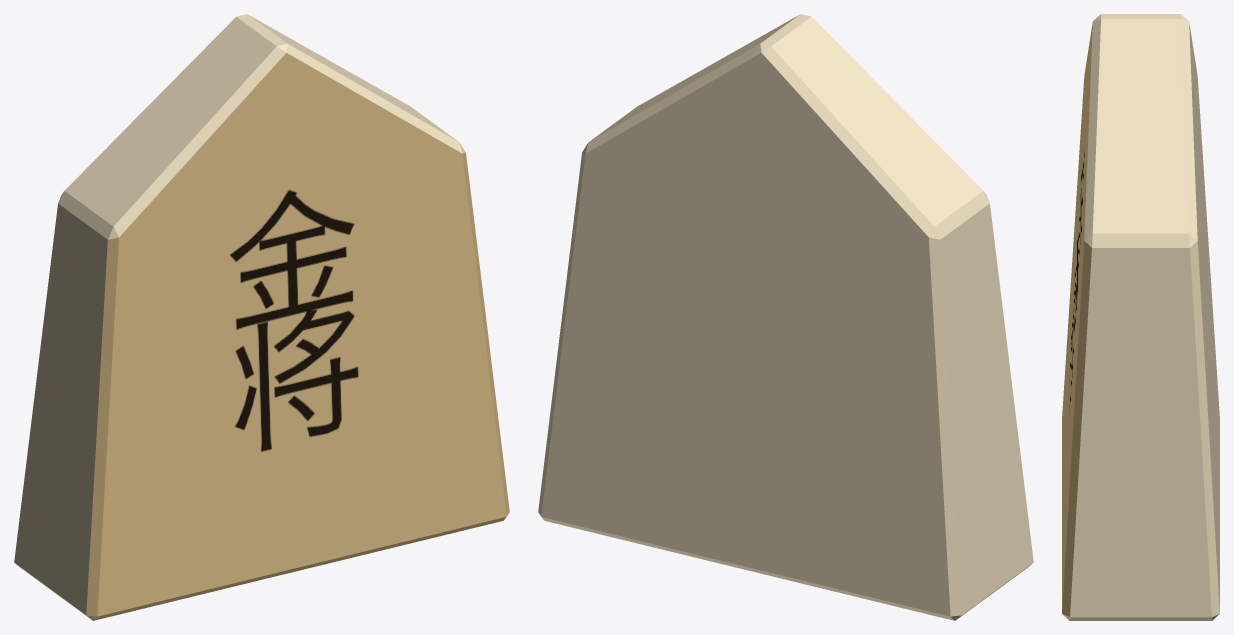
The model's file is Shogi_Gold.glb.
3 renders of one model, left to right at view 1: azimuth 30°, elevation 25°; view 2: azimuth 150°, elevation 25°; view 3: azimuth 270°, elevation 25°, orthographic.
Visible parts, largest first — view 1: Shogi_Gold; view 2: Shogi_Gold; view 3: Shogi_Gold.
Part boxes in pixels (box(x1,y1,x2,y2)): Shogi_Gold: box(14, 14, 509, 620); Shogi_Gold: box(538, 14, 1033, 620); Shogi_Gold: box(1062, 14, 1219, 620).
Size of the model in its own units: 0.025 by 0.029 by 0.0082.
Materials: 2 (1 with a texture image).
